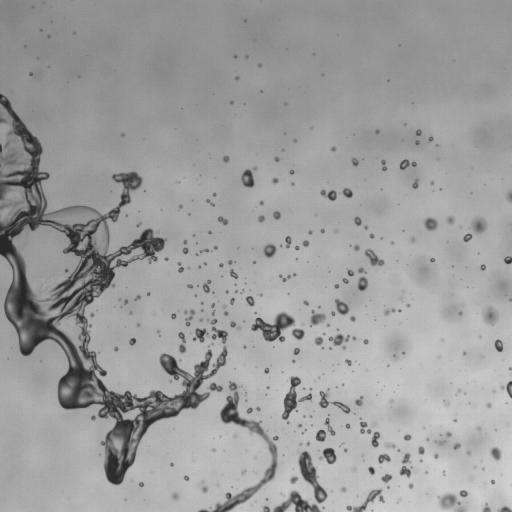droplet: (262, 451, 327, 511), (251, 312, 295, 342), (282, 376, 311, 421), (438, 492, 466, 511), (399, 453, 416, 477), (241, 166, 257, 187), (482, 306, 498, 325), (329, 334, 349, 349), (319, 448, 336, 464), (471, 217, 487, 233), (310, 310, 325, 326), (318, 390, 330, 407), (335, 299, 348, 314), (320, 189, 337, 200), (500, 380, 511, 397), (424, 217, 437, 230), (263, 244, 276, 257), (291, 327, 304, 340), (184, 309, 194, 325), (490, 446, 501, 460), (357, 276, 367, 291), (371, 432, 380, 447), (360, 421, 371, 433), (378, 453, 390, 463), (381, 473, 392, 483), (494, 339, 503, 351), (316, 429, 325, 441), (314, 336, 323, 347), (342, 188, 352, 197), (218, 216, 228, 225), (230, 321, 240, 330), (246, 296, 254, 306), (384, 308, 395, 315), (230, 269, 238, 278), (355, 396, 363, 405), (280, 275, 290, 282), (285, 236, 291, 247), (463, 233, 471, 241), (290, 475, 298, 483), (482, 504, 491, 511), (385, 442, 395, 448), (273, 211, 280, 219), (354, 217, 361, 225), (446, 216, 454, 223), (459, 490, 467, 497), (412, 179, 418, 188), (504, 256, 511, 263), (129, 338, 136, 345), (352, 158, 358, 166), (293, 347, 299, 355), (418, 446, 424, 454), (368, 467, 374, 475), (258, 215, 264, 222), (358, 267, 365, 273), (347, 269, 353, 276), (404, 434, 411, 440), (453, 443, 460, 449), (223, 156, 229, 162), (302, 240, 308, 246), (345, 359, 351, 365), (246, 407, 252, 413), (172, 493, 178, 499), (416, 129, 421, 135), (272, 178, 278, 183), (353, 245, 359, 250), (182, 248, 188, 253), (480, 264, 485, 270), (342, 278, 348, 283), (171, 313, 176, 319), (202, 486, 207, 492), (341, 486, 346, 492), (410, 237, 415, 242), (135, 295, 140, 300), (303, 300, 308, 305), (350, 316, 355, 321), (363, 339, 368, 344), (264, 368, 269, 373), (446, 432, 451, 437), (408, 483, 413, 488), (230, 298, 234, 304), (429, 136, 433, 141), (274, 157, 279, 161), (369, 234, 374, 238), (228, 260, 233, 264), (187, 284, 192, 288), (334, 284, 339, 288), (444, 401, 449, 405), (486, 403, 491, 407), (434, 453, 438, 458), (241, 470, 245, 475), (184, 476, 189, 480), (157, 330, 160, 336), (375, 129, 379, 133), (415, 140, 419, 144), (331, 147, 335, 151), (259, 201, 263, 205), (213, 245, 217, 249), (295, 246, 299, 250), (430, 258, 434, 262), (219, 263, 223, 267), (346, 424, 350, 428), (139, 482, 143, 486), (290, 170, 293, 174), (224, 311, 227, 315), (331, 311, 334, 315), (90, 313, 93, 317), (352, 337, 356, 340), (256, 407, 260, 410), (353, 467, 356, 471), (213, 193, 216, 196), (137, 223, 140, 226), (321, 229, 324, 232), (308, 231, 311, 234), (183, 240, 186, 243), (165, 257, 168, 260), (65, 269, 68, 272), (124, 300, 127, 303), (406, 304, 409, 307), (459, 312, 462, 315), (114, 347, 117, 350), (457, 389, 460, 392), (373, 422, 376, 425), (298, 424, 301, 427), (435, 440, 438, 443), (306, 442, 309, 445), (467, 451, 470, 454), (170, 463, 173, 466), (491, 480, 494, 483), (281, 493, 284, 496), (509, 367, 511, 371), (234, 55, 237, 57), (258, 64, 261, 66), (236, 76, 238, 79), (430, 182, 433, 184), (179, 205, 182, 207), (364, 226, 367, 228), (208, 231, 211, 233), (391, 241, 393, 244), (211, 304, 214, 306), (212, 311, 214, 314), (292, 360, 295, 362), (390, 399, 393, 401), (426, 438, 429, 440), (212, 449, 215, 451), (344, 449, 347, 451), (442, 471, 445, 473), (30, 72, 32, 74), (294, 139, 296, 141), (335, 230, 337, 232), (235, 290, 237, 292), (241, 291, 243, 293), (223, 305, 225, 307), (327, 324, 329, 326), (463, 352, 465, 354), (454, 419, 456, 421), (478, 427, 480, 429), (304, 429, 306, 431)
ligament: (0, 93, 227, 485), (198, 381, 278, 511), (346, 489, 384, 511), (364, 248, 384, 266), (332, 401, 350, 413), (324, 417, 335, 435), (178, 332, 186, 353), (400, 159, 416, 169), (203, 280, 210, 292), (497, 506, 511, 511), (506, 189, 511, 202), (381, 160, 386, 170), (178, 262, 183, 272), (206, 199, 214, 205), (201, 249, 209, 252), (510, 298, 511, 301)
